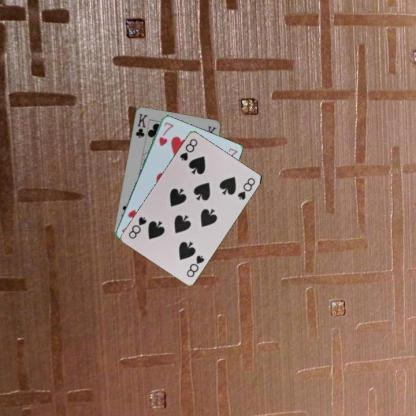7h: (156, 118, 174, 147)
8s: (177, 136, 199, 162), (184, 252, 206, 278)
Kc: (132, 110, 148, 140)
